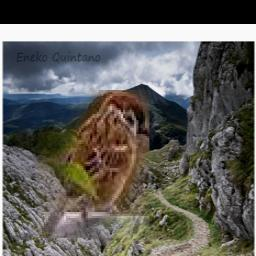Sparrow: (37, 90, 149, 238)
